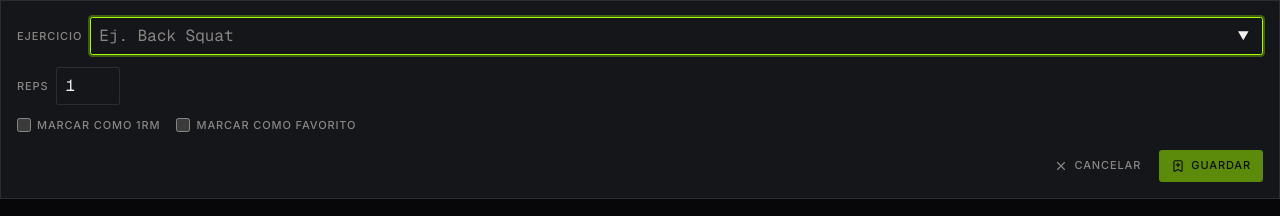
Test: SaveRecordForm — issue 0037 fields › shows a loading state on the Guardar button while the save is in flight (0045 M1)
Type "Back Squat" into the field with placeholder "Ej. Back Squat".
click(677, 36); type("Back Squat")  # box [90, 17, 1263, 55]
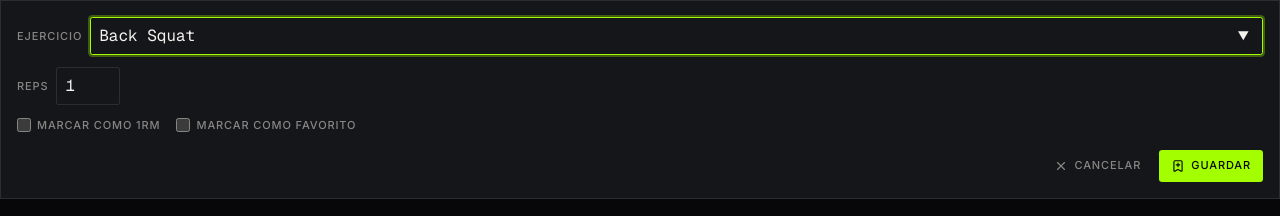
Click the button with aria-label "Guardar carga".
click(1211, 166)  # box [1159, 150, 1263, 182]
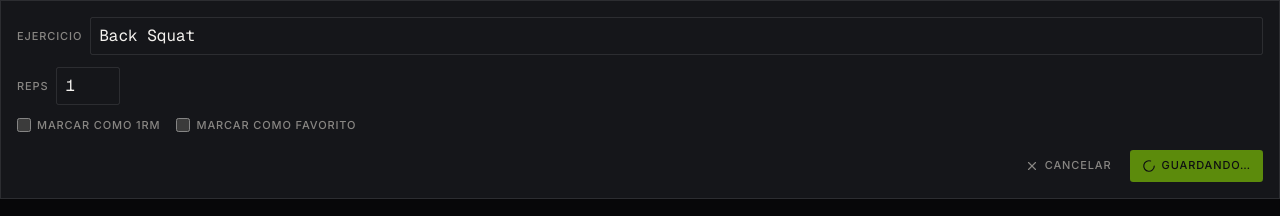
Check: the button with aria-label "Guardando carga" is disabled, box [1130, 150, 1263, 182]
Check: the icon with class "animate-spin" is shown, box [1142, 158, 1156, 172]
